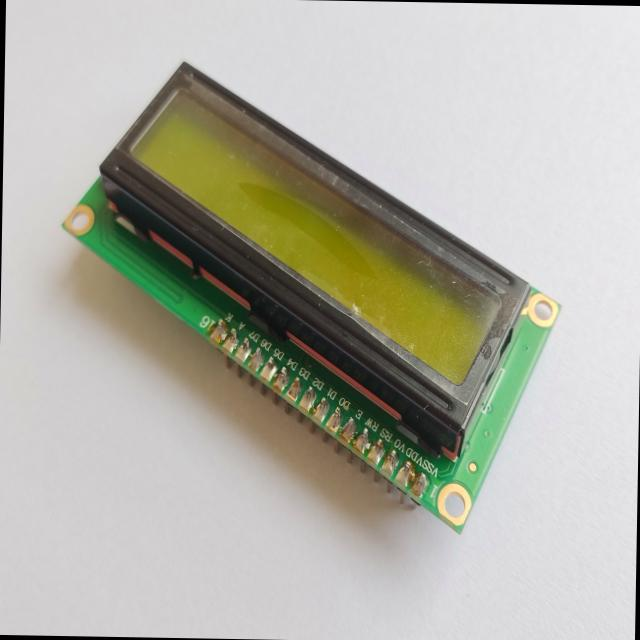lcd: (59, 57, 566, 537)
